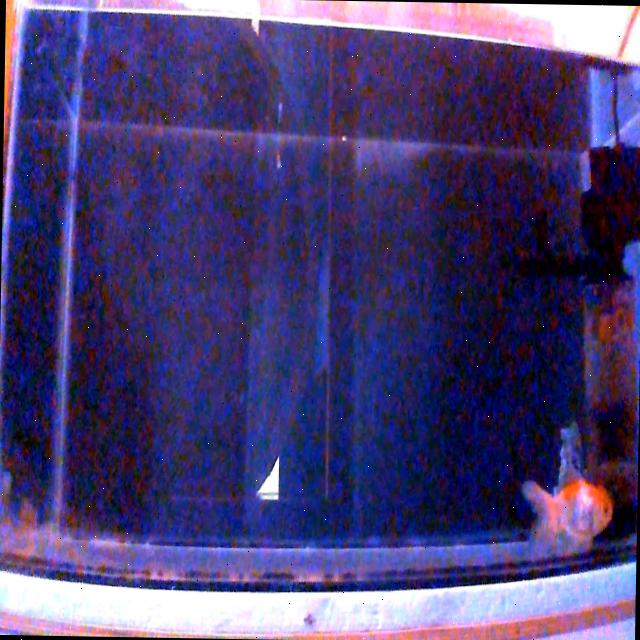fish: (520, 462, 614, 554)
